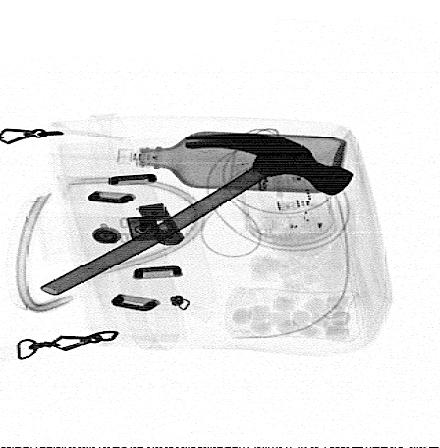Hammer: (40, 133, 355, 296)
